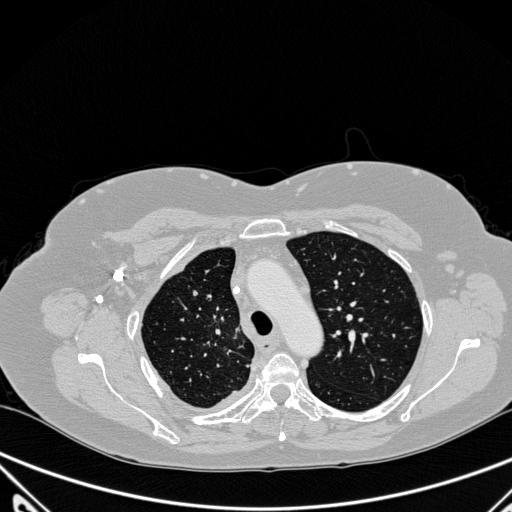nodule: (190, 288, 200, 298)
